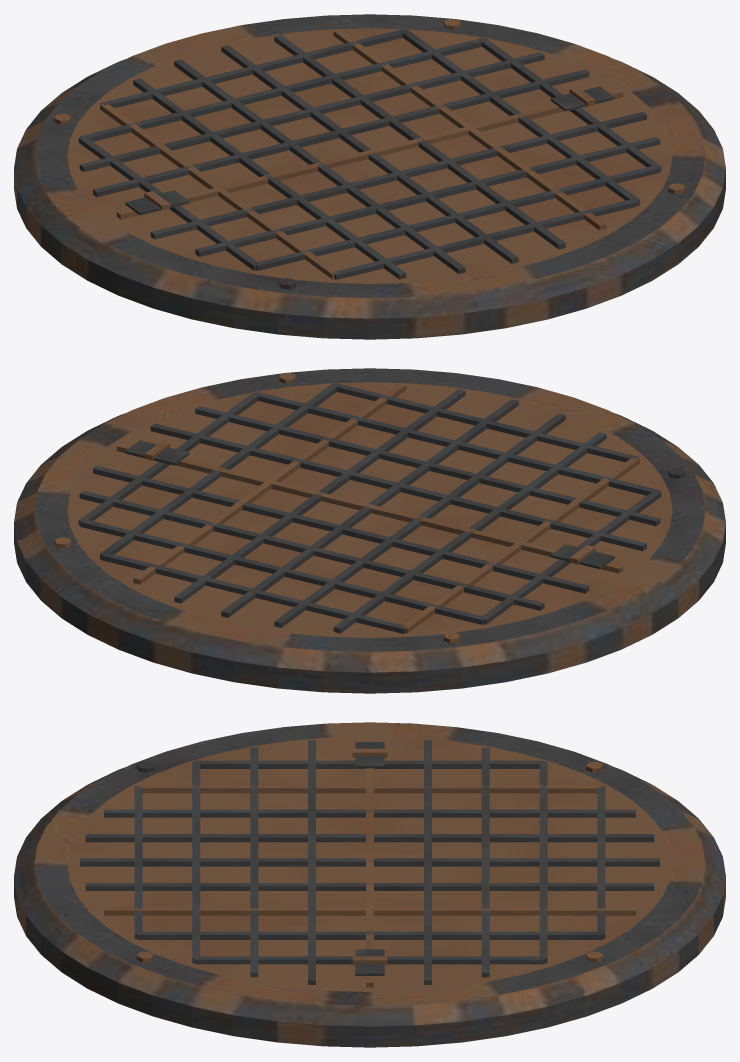
The model's file is R23_manhole_cover.glb.
The picture shows the model from 3 angles, top to bottom: view 1: azimuth 30°, elevation 25°; view 2: azimuth 150°, elevation 25°; view 3: azimuth 270°, elevation 25°; orthographic projection.
Visible parts, largest first — view 1: Cast iron cover; view 2: Cast iron cover; view 3: Cast iron cover.
Boxes of the visible parts, x1,y1,x2,y2 form: Cast iron cover: (14,14,725,339); Cast iron cover: (14,368,725,693); Cast iron cover: (14,722,725,1047).
Bounding box in the file's own units: 0.8 × 0.063 × 0.8.
3 materials, 3 textured.
